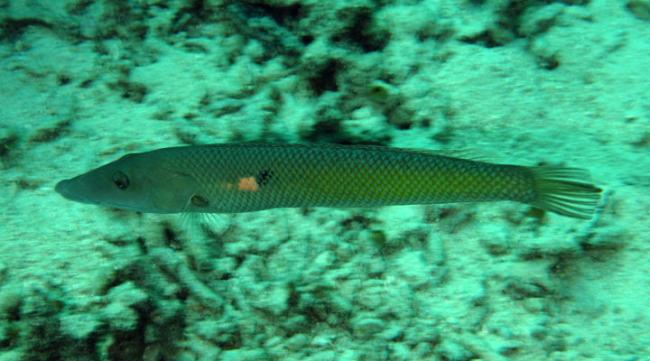fish: (56, 143, 602, 221)
